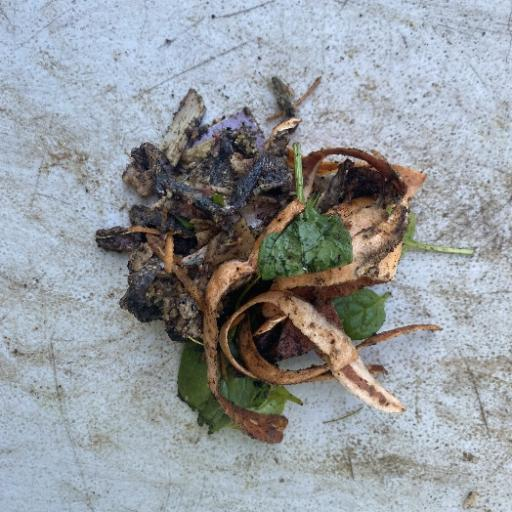Waste: (93, 73, 446, 445)
